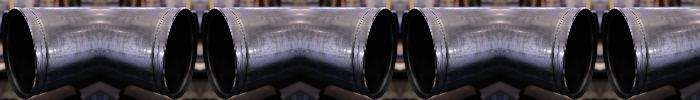pipe: (364, 8, 397, 99), (203, 8, 236, 99), (403, 8, 436, 99), (164, 8, 197, 99), (564, 8, 597, 99), (3, 8, 36, 99), (603, 8, 636, 99)
